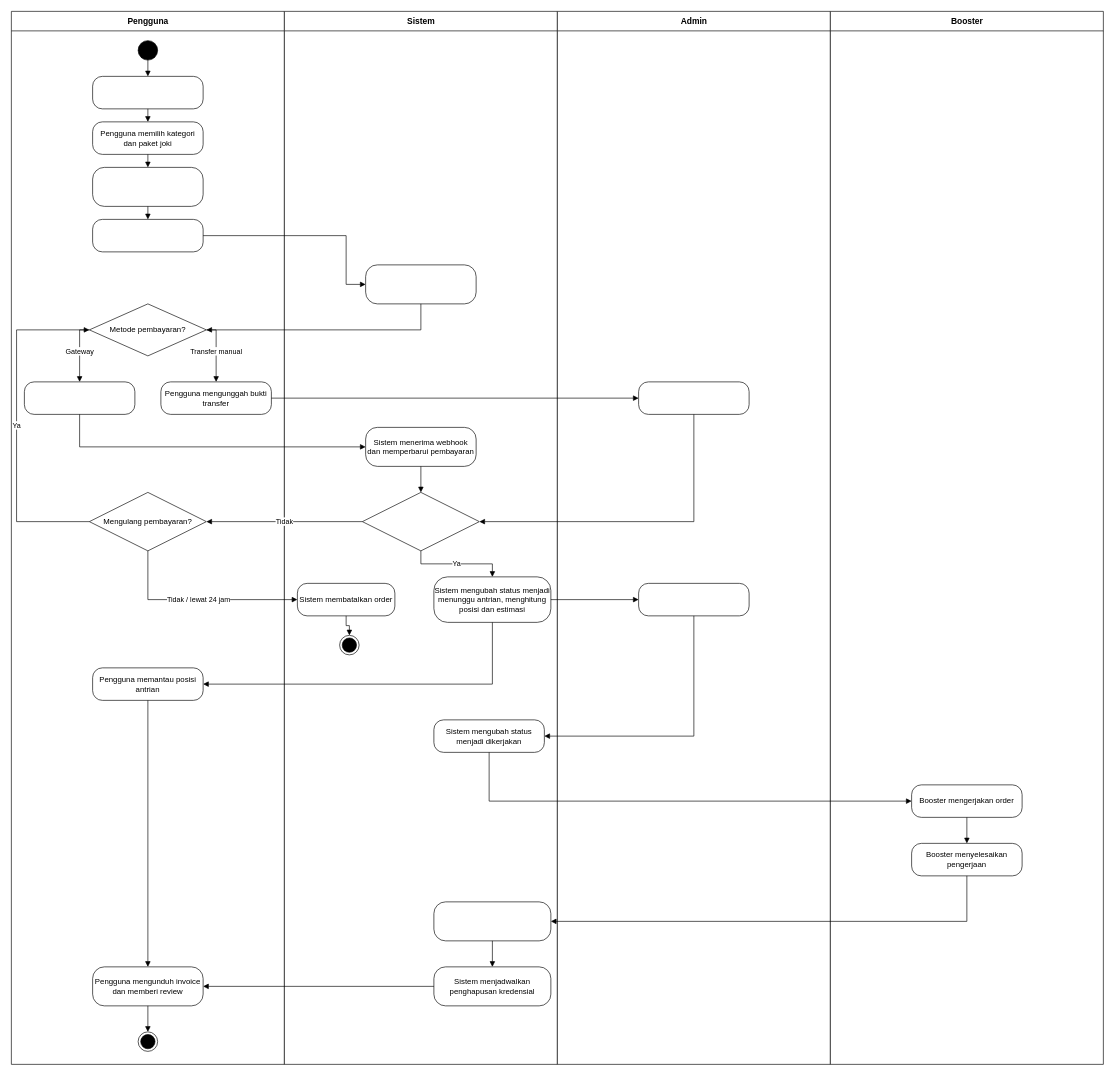
The diagram is 1115 pixels wide and 1076 high, and some of its shapes have lost their labels. The shapes that lost their labels are listed below. From the top down, each one's centre as x and y in pixels, then its label:
At (147,92): "Pengguna login".
At (147,186): "Pengguna mengisi UID, server, kredensial, catatan, dan lampiran".
At (147,235): "Pengguna menyetujui disclaimer dan checkout".
At (420,284): "Sistem membuat order, status menunggu pembayaran".
At (79,397): "Pengguna membayar melalui Midtrans".
At (693,397): "Admin memeriksa bukti transfer".
At (420,521): "Pembayaran valid?".
At (693,599): "Admin menugaskan booster".
At (492,921): "Sistem mengubah status menjadi selesai dan mengirim notifikasi".
